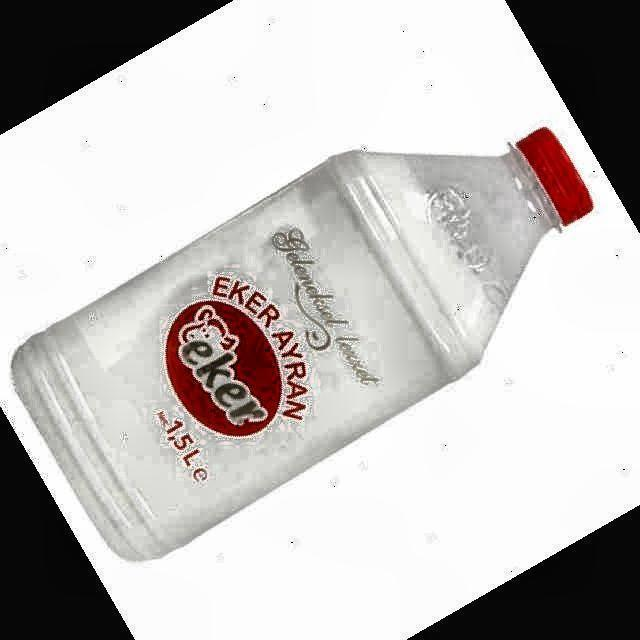plastic: (11, 128, 592, 560)
